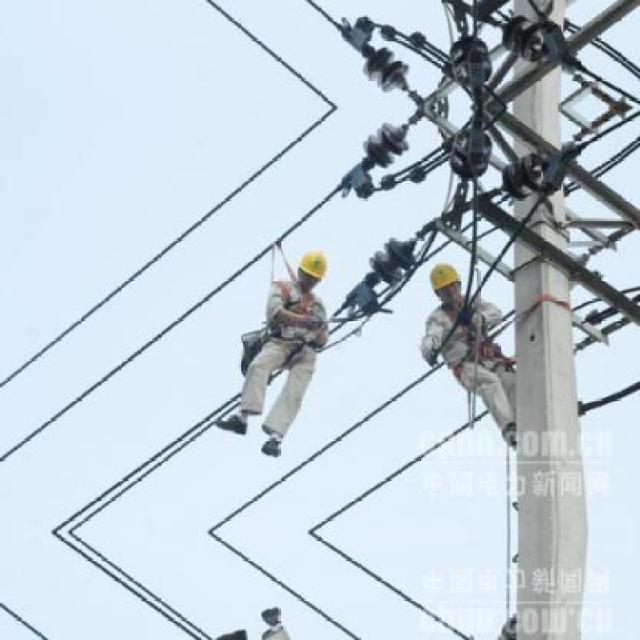helmet: (425, 259, 464, 304), (295, 244, 330, 288)
